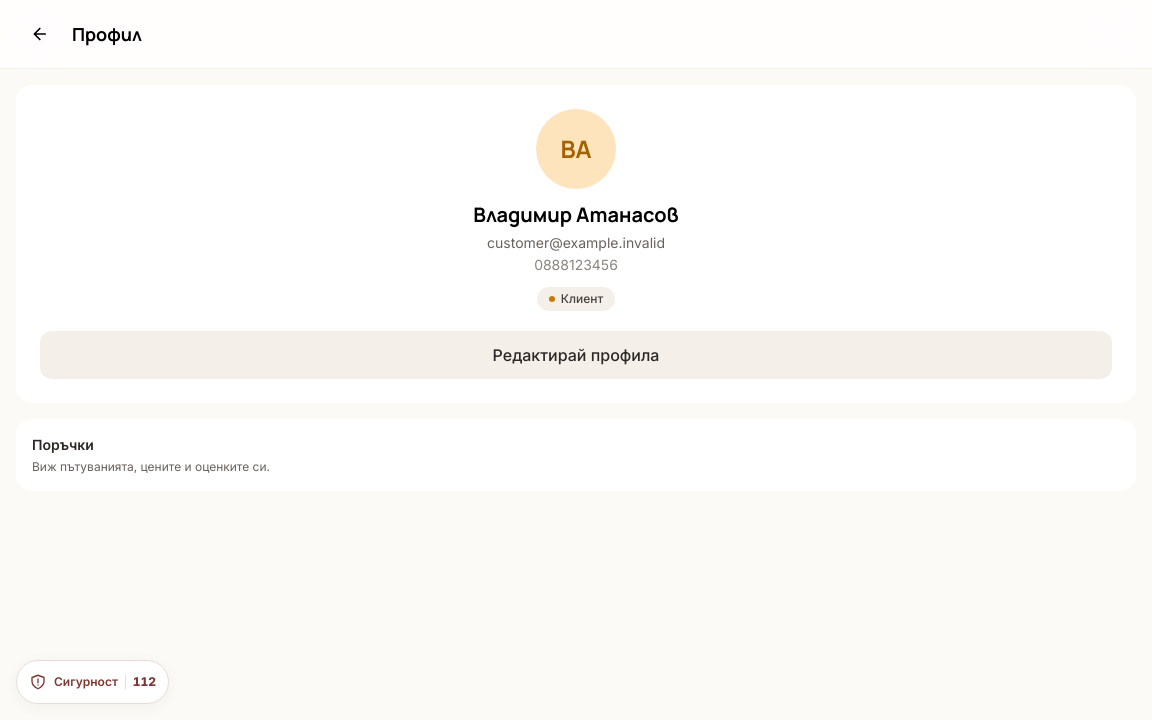
retains entered fields after a rejected or unconfirmed save and allows retry
Click the button "Редактирай профила".
click(576, 355)  # box x1=40 y1=331 x2=1112 y2=379
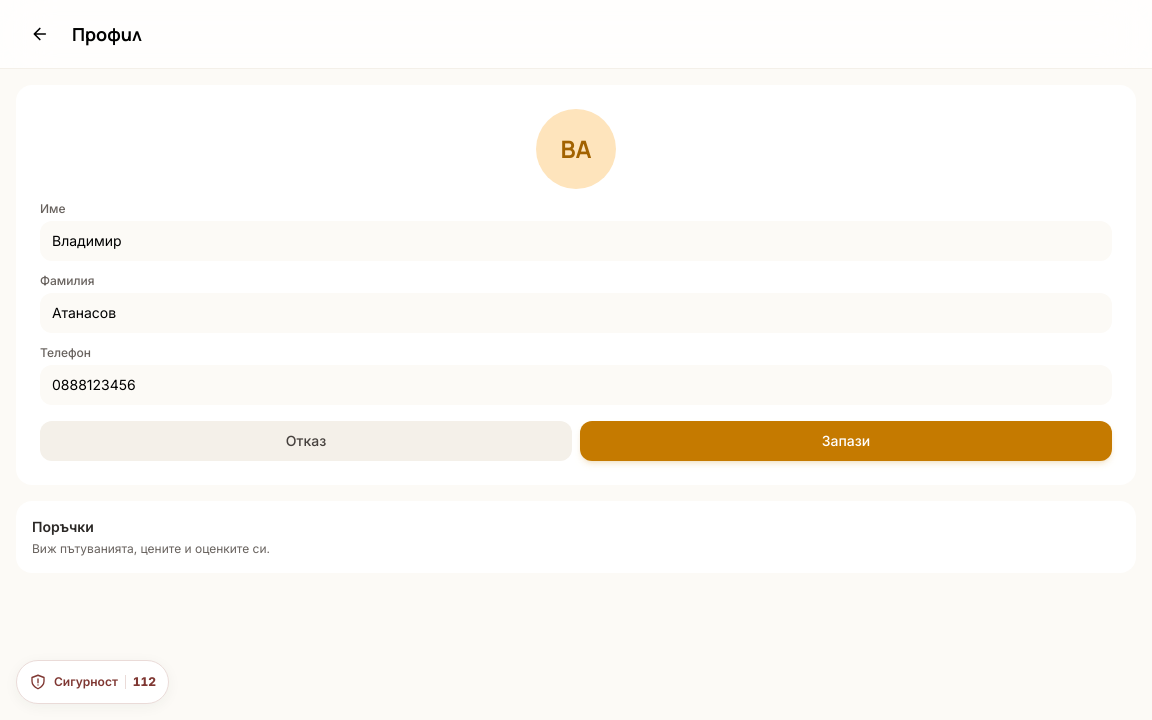
Replace the text in the field labelled "Телефон" with "0899123456" at (576, 385), box x1=40 y1=365 x2=1112 y2=405
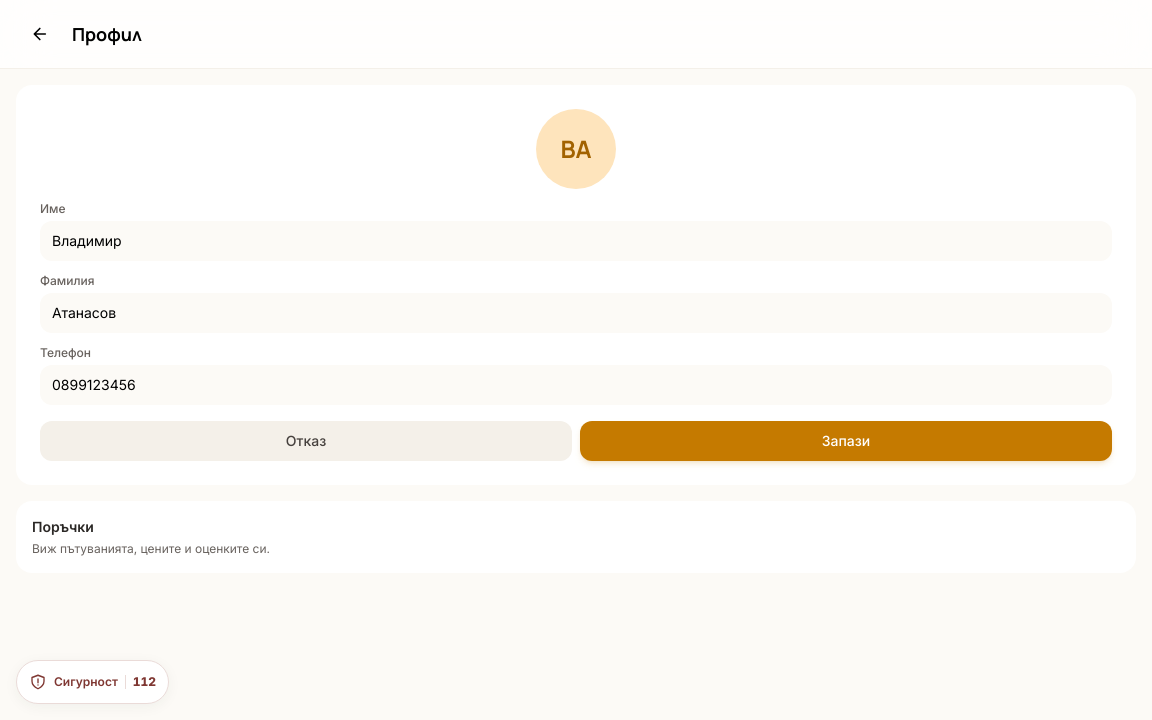
Submit the form, box x1=40 y1=201 x2=1112 y2=461
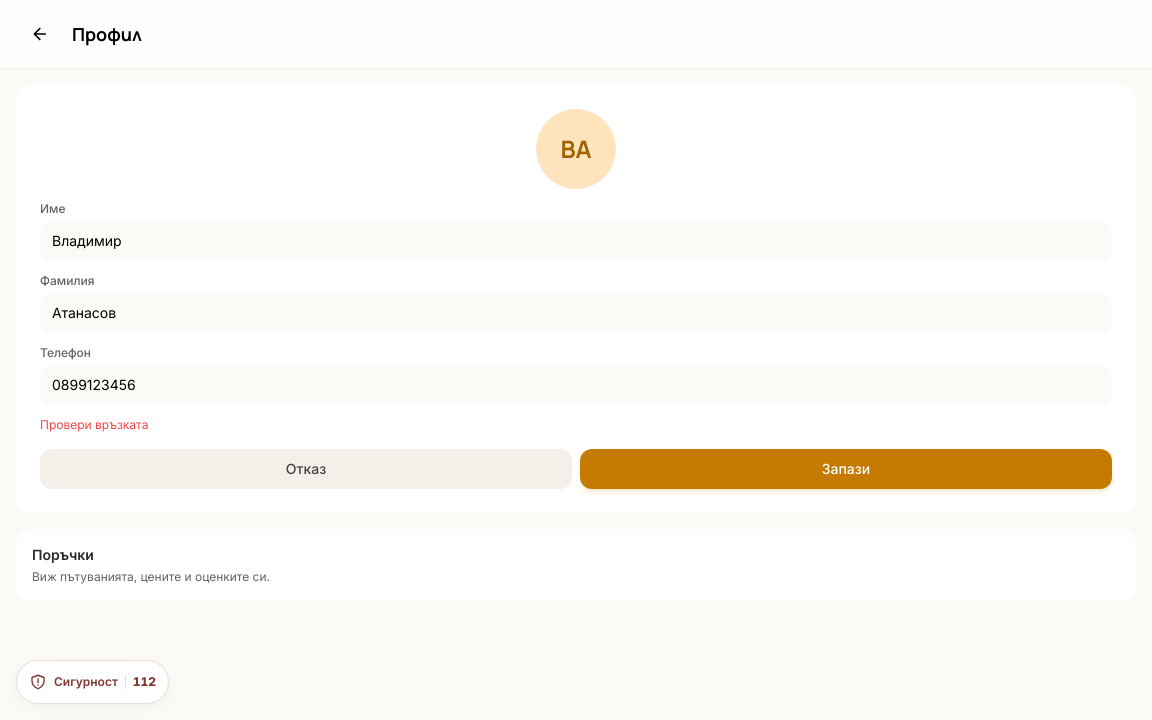
Now the message reads "Провери връзката", box x1=40 y1=417 x2=148 y2=432
Submit the form, box x1=40 y1=201 x2=1112 y2=489
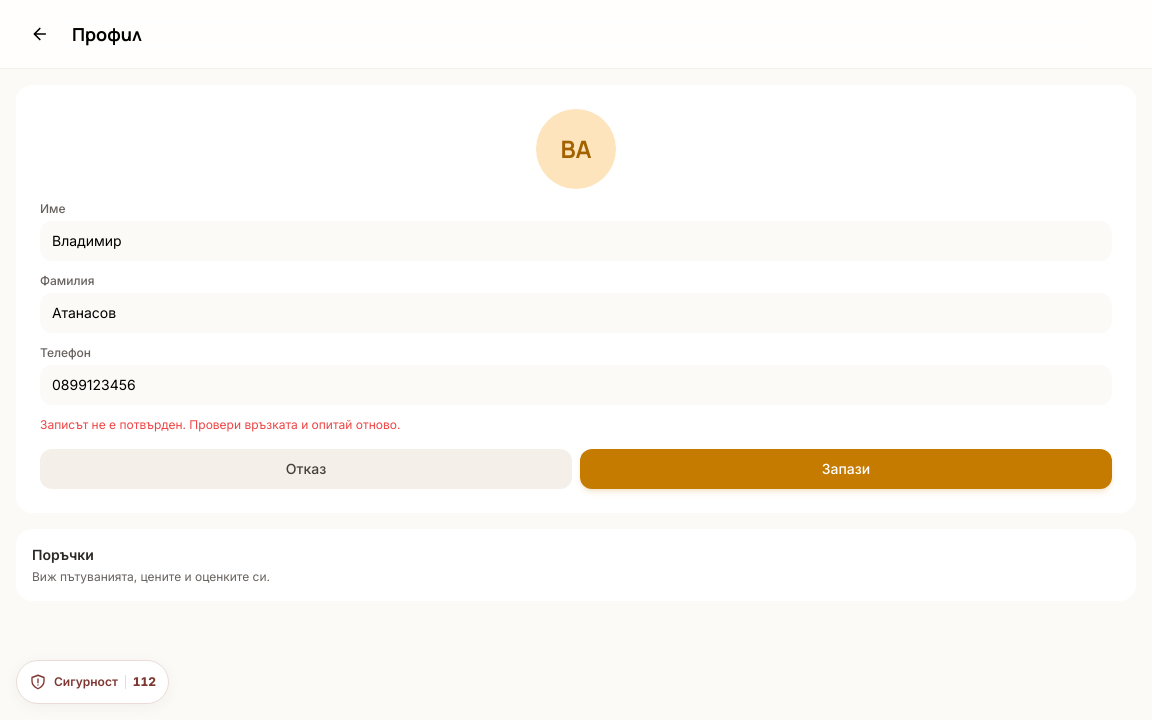
Now the message shows "Записът не е потвърден", box x1=40 y1=417 x2=400 y2=432
Submit the form, box x1=40 y1=201 x2=1112 y2=489
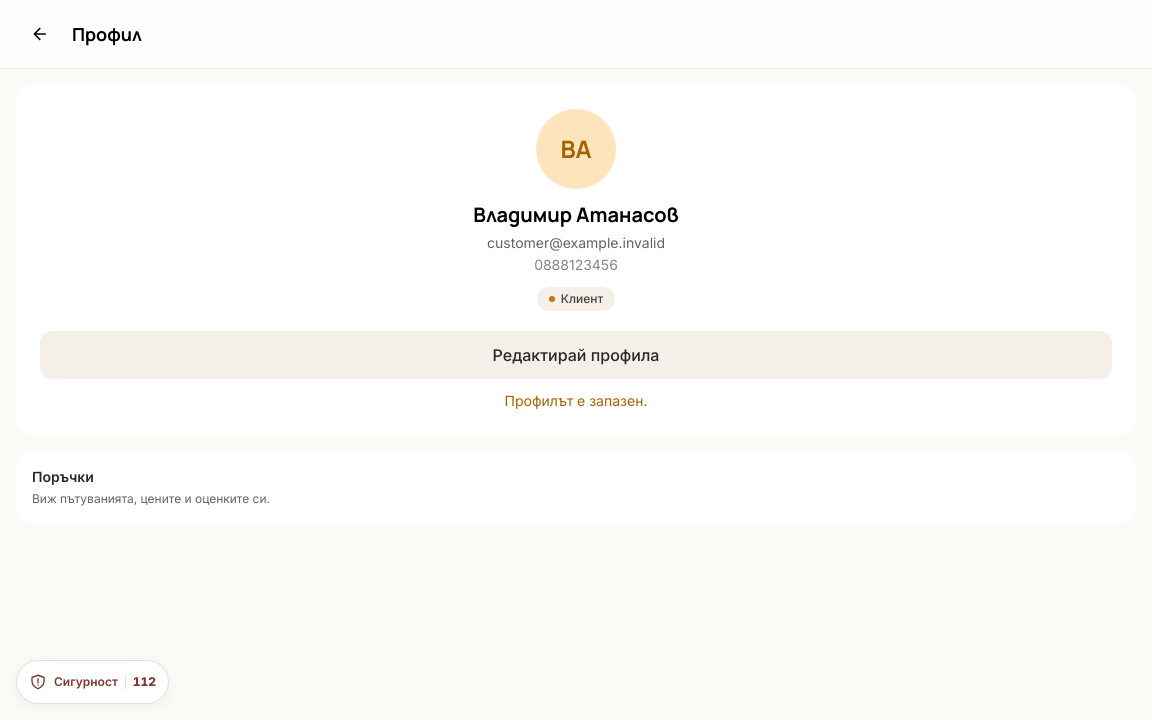
Now the message "Профилът е запазен." is shown, box x1=505 y1=392 x2=647 y2=409
